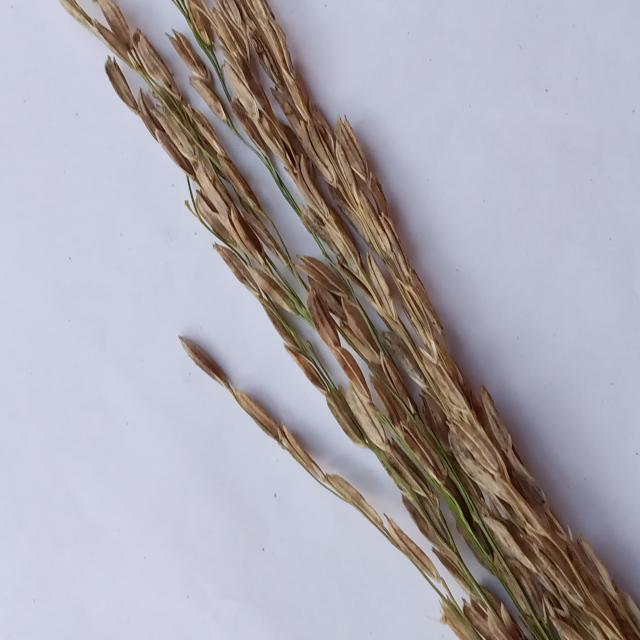Neck_Blast: (170, 0, 636, 638), (68, 3, 495, 608), (180, 343, 530, 633), (311, 254, 431, 448)
